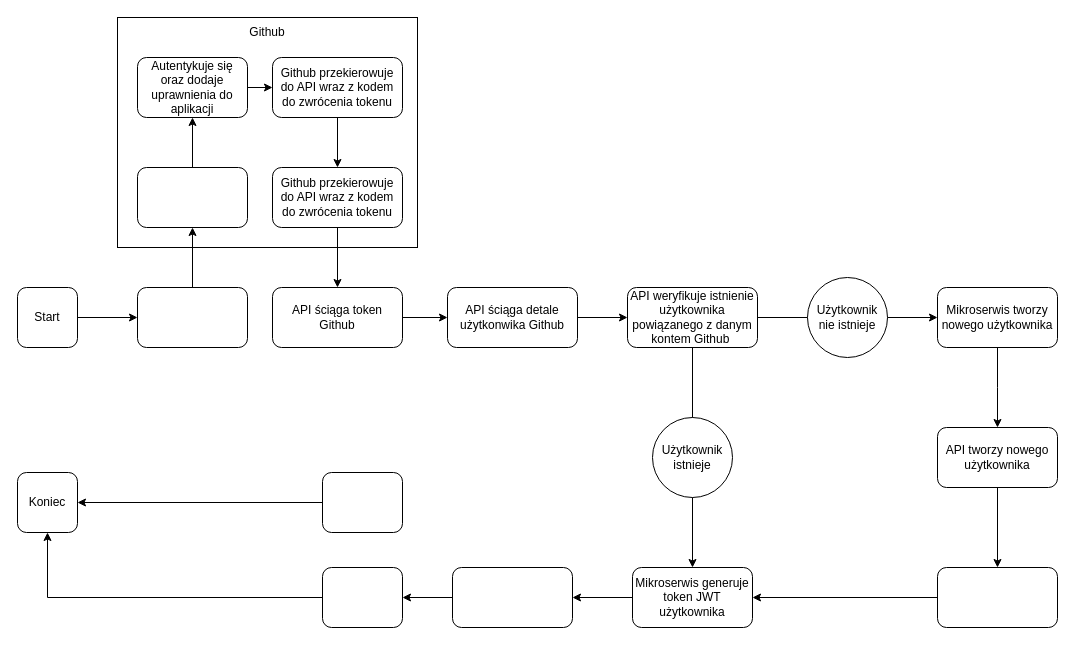
This 1075x645 diagram has some shape labels left out. The shapes that lost their labels are listed below. From the top down, each one's box as (x1, y1, x2, y2) in pixels, then its label:
(136, 166, 248, 228): Zostaje przekierowany na stronę logowania Github
(136, 286, 248, 348): Użytkownik klika przycisk logowania Githbu
(322, 472, 402, 532): Zwrócenie informacji o błędzie
(322, 566, 402, 628): Zwrócenie informacji o sukcesie
(452, 566, 572, 628): Mikroserwis zwraca token użytkownika
(936, 566, 1058, 628): API dodaje asocjację użytkownika z kontem Github
